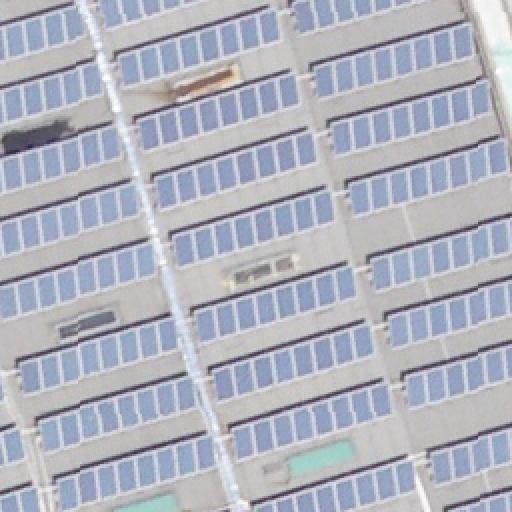solar-panel: (131, 68, 301, 156), (312, 20, 480, 104), (232, 377, 396, 463), (172, 186, 336, 270), (118, 6, 282, 90), (33, 375, 199, 457), (193, 263, 359, 345), (348, 139, 512, 221), (152, 131, 316, 213), (330, 79, 494, 161), (210, 324, 378, 404), (15, 315, 177, 397), (1, 240, 159, 324), (55, 433, 217, 511), (368, 219, 512, 293), (0, 181, 136, 259), (0, 124, 128, 196), (252, 457, 416, 511), (388, 277, 512, 347), (400, 342, 512, 410), (0, 59, 104, 125), (290, 1, 434, 39), (432, 425, 512, 487), (0, 6, 88, 62), (98, 0, 206, 32), (448, 489, 512, 511), (1, 425, 31, 471), (0, 486, 40, 512), (1, 379, 7, 405)
